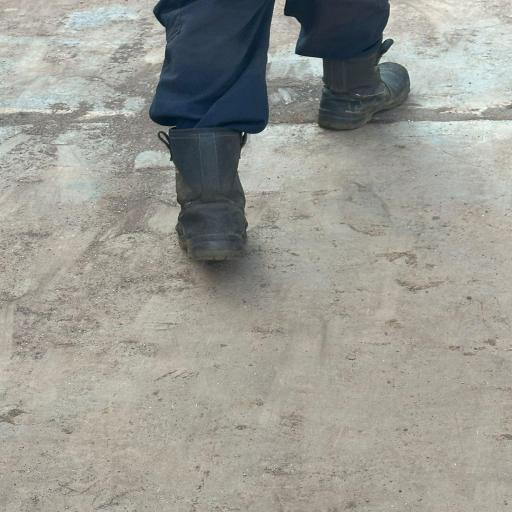Safety-shoes: (157, 128, 250, 265), (320, 38, 410, 130)
